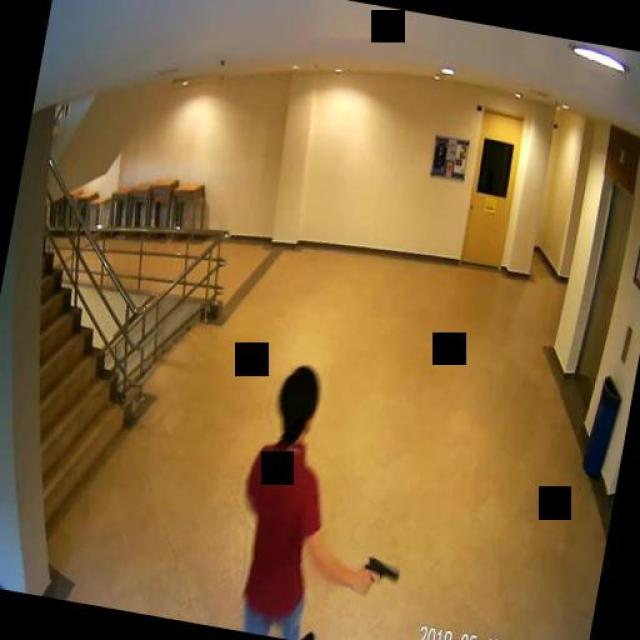gun: (359, 554, 400, 598)
